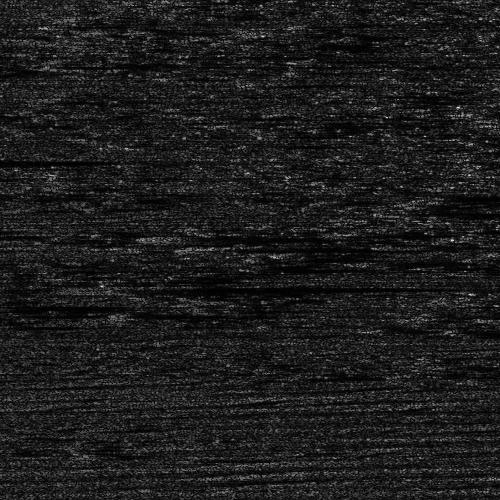rock: (56, 283, 161, 294), (186, 238, 259, 253), (131, 233, 194, 242), (484, 104, 500, 129), (413, 192, 454, 201), (337, 259, 378, 264)
shadow: (223, 238, 500, 253), (109, 283, 415, 294), (163, 233, 366, 242), (0, 156, 86, 165), (358, 259, 486, 264), (434, 192, 500, 201)
